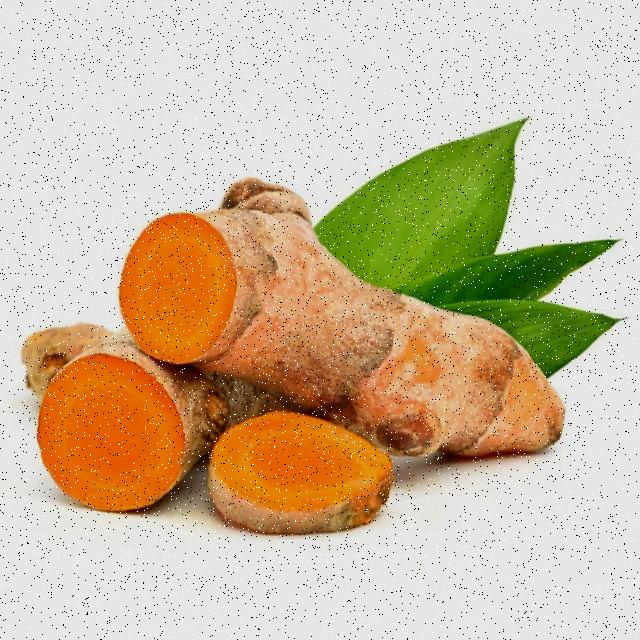turmeric: (124, 150, 571, 458), (6, 346, 189, 517), (210, 404, 412, 550)
